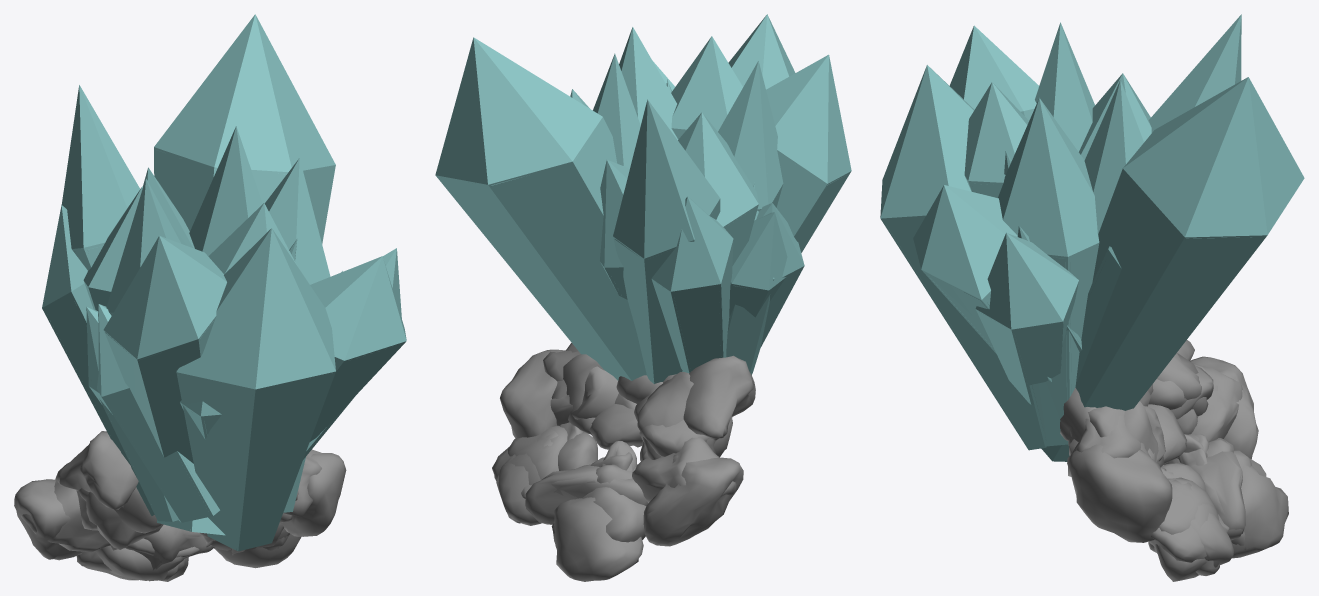
File: Crystal.gltf
The picture shows the model from 3 angles, left to right: view 1: azimuth 30°, elevation 25°; view 2: azimuth 150°, elevation 25°; view 3: azimuth 270°, elevation 25°; orthographic projection. The views are drawn at different scales.
Parts seen in each view (by area): view 1: crystal_2, crystal_2_bevel.001, crystal_1, crystal_5, crystal_4, rocks_3.001, crystal_1_bevel.001, crystal_3, crystal_4_bevel.001, rocks_5.001, rocks_2.001, crystal_6 (+6 smaller); view 2: crystal_2, crystal_2_bevel.001, crystal_5, crystal_1, rocks_2.001, rocks_3.001, crystal_3, crystal_4, rocks_5.001, crystal_1_bevel.001, rocks_4.001, crystal_5_bevel.001 (+8 smaller); view 3: crystal_2, crystal_2_bevel.001, crystal_4, crystal_3, rocks_5.001, crystal_5, rocks_1.001, rocks_2.001, crystal_4_bevel.001, crystal_1, crystal_3_bevel.001, crystal_6 (+6 smaller).
Part boxes in pixels (left/top/right/bottom): crystal_2: left=42, top=14, right=401, bottom=551; crystal_2_bevel.001: left=44, top=25, right=398, bottom=550; crystal_1: left=83, top=186, right=226, bottom=463; crystal_5: left=61, top=85, right=262, bottom=270; crystal_4: left=86, top=203, right=406, bottom=441; rocks_3.001: left=21, top=431, right=301, bottom=580; crystal_1_bevel.001: left=84, top=194, right=226, bottom=461; crystal_3: left=90, top=158, right=330, bottom=521; crystal_4_bevel.001: left=87, top=212, right=405, bottom=435; rocks_5.001: left=78, top=453, right=346, bottom=550; rocks_2.001: left=14, top=479, right=298, bottom=581; crystal_6: left=106, top=178, right=342, bottom=314; crystal_2: left=435, top=14, right=804, bottom=380; crystal_2_bevel.001: left=438, top=21, right=802, bottom=380; crystal_5: left=593, top=53, right=720, bottom=383; crystal_1: left=678, top=54, right=851, bottom=371; rocks_2.001: left=551, top=343, right=743, bottom=581; rocks_3.001: left=521, top=355, right=755, bottom=542; crystal_3: left=600, top=27, right=774, bottom=374; crystal_4: left=652, top=36, right=787, bottom=317; rocks_5.001: left=496, top=349, right=732, bottom=525; crystal_1_bevel.001: left=689, top=61, right=850, bottom=245; rocks_4.001: left=526, top=354, right=732, bottom=524; crystal_5_bevel.001: left=593, top=69, right=713, bottom=381; crystal_2: left=880, top=65, right=1304, bottom=461; crystal_2_bevel.001: left=882, top=71, right=1302, bottom=461; crystal_4: left=913, top=82, right=1121, bottom=381; crystal_3: left=998, top=98, right=1099, bottom=446; rocks_5.001: left=1060, top=365, right=1233, bottom=564; crystal_5: left=1084, top=14, right=1241, bottom=234; rocks_1.001: left=1068, top=364, right=1245, bottom=575; rocks_2.001: left=1068, top=356, right=1288, bottom=558; crystal_4_bevel.001: left=915, top=94, right=1113, bottom=383; crystal_1: left=949, top=25, right=1151, bottom=350; crystal_3_bevel.001: left=1001, top=112, right=1098, bottom=445; crystal_6: left=1004, top=22, right=1094, bottom=241.
Size of the model in its own units: 6.25 by 10.28 by 7.49.
